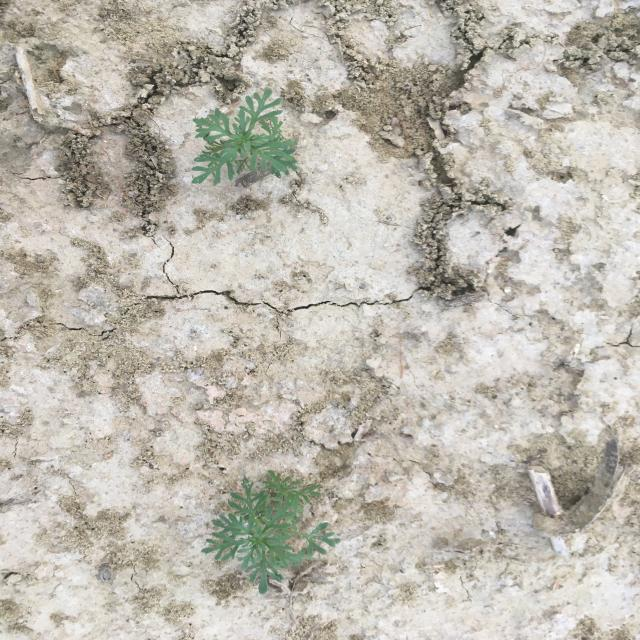Ragweed: (198, 468, 341, 597), (188, 86, 300, 188)
